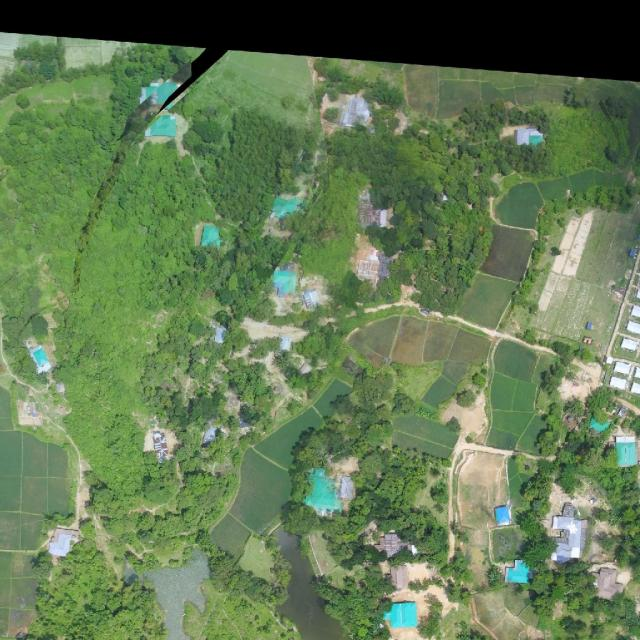agricultural_land: (425, 125, 625, 338), (199, 357, 352, 565), (345, 273, 497, 415), (529, 184, 640, 353), (0, 387, 69, 560), (473, 337, 543, 451), (393, 410, 459, 461)
building: (293, 464, 367, 538), (385, 474, 426, 543)
